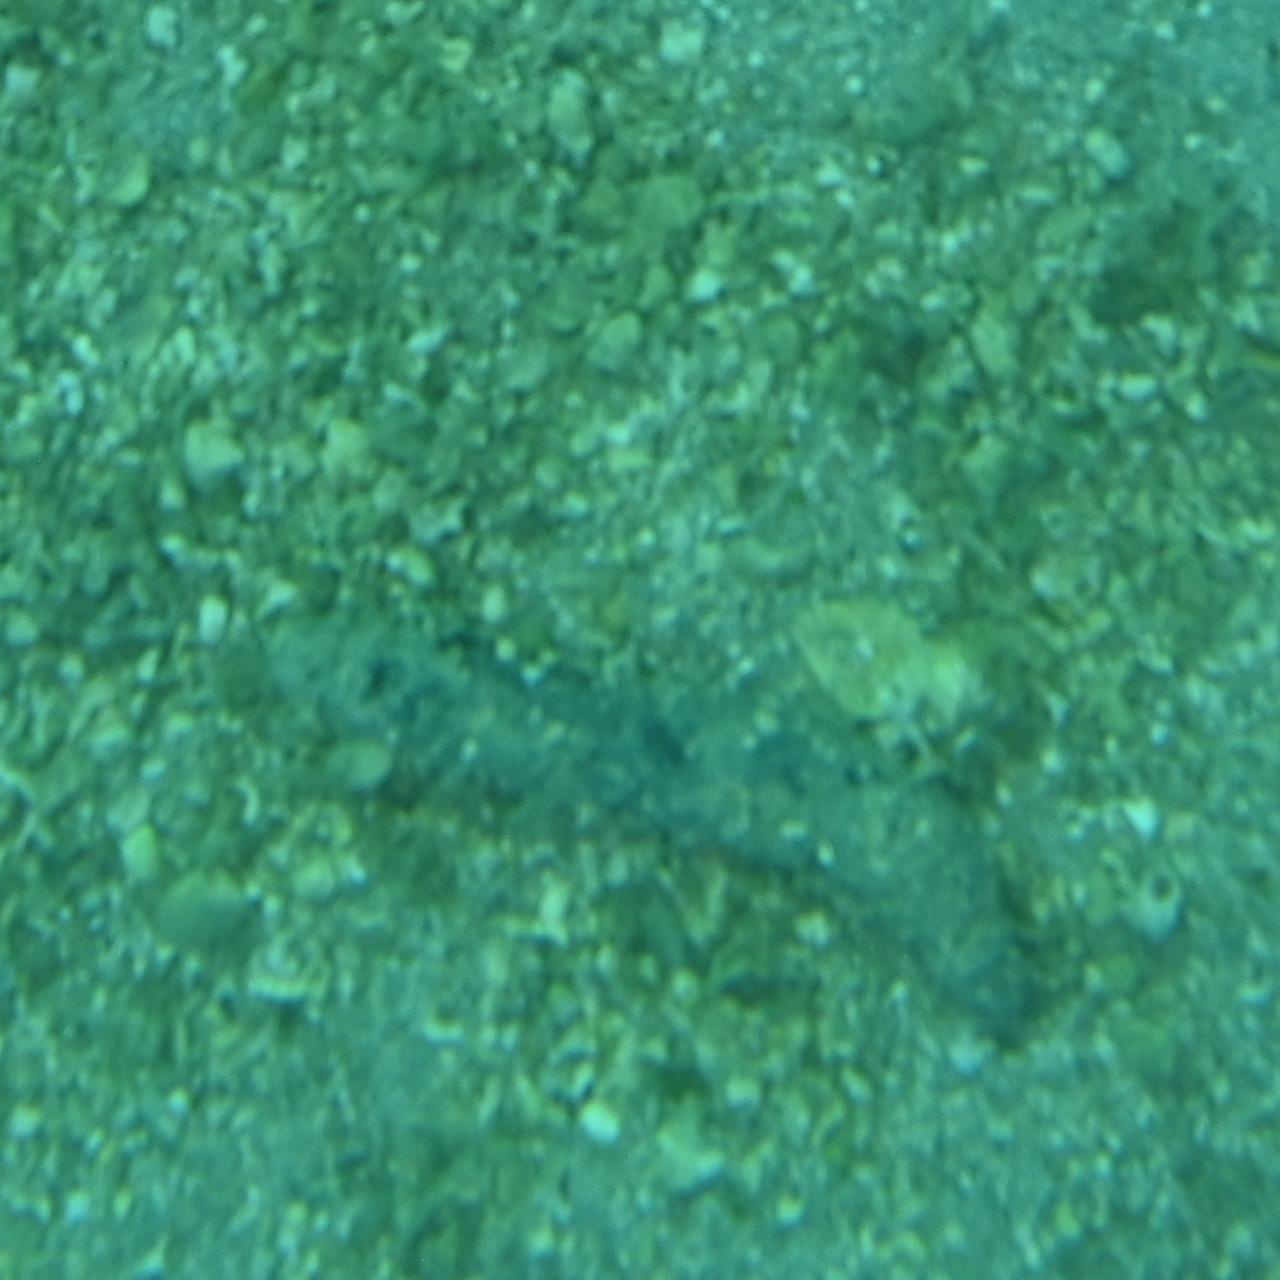Holothuria tubulosa: (201, 593, 1079, 1061)
